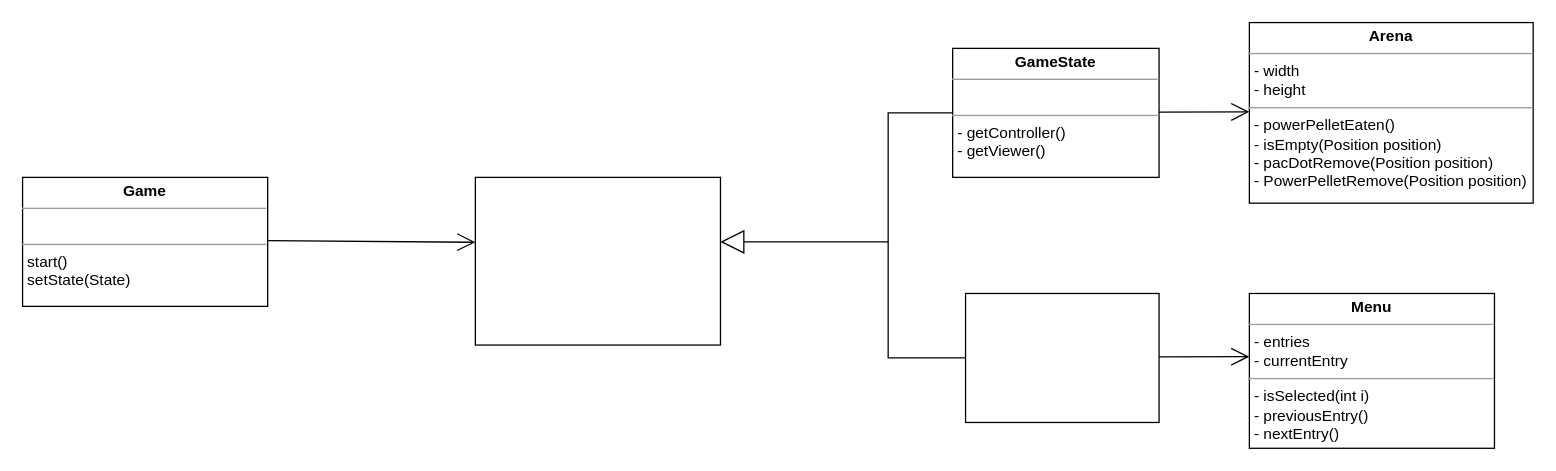
This 1556x471 diagram has some shape labels left out. The shapes that lost their labels are listed below. From the top down, each one's centre as x and y in pixels, then its label:
[597,260]: State - getController() - getViewer - step(game, gui, time)
[1061,357]: MenuState - getController() - getViewer()
